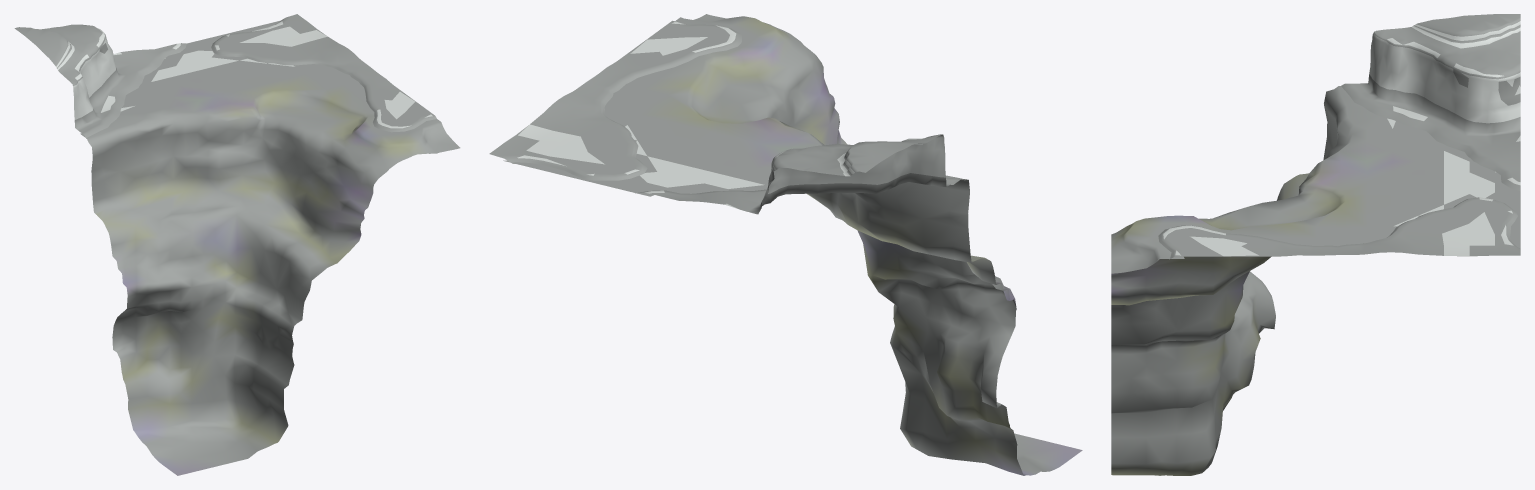
3 views of the same model, side by side, from view 1: azimuth 30°, elevation 25°; view 2: azimuth 150°, elevation 25°; view 3: azimuth 270°, elevation 25° (orthographic). The views are drawn at different scales.
Visible parts, largest first — view 1: G:\FFXIV-MapTools\exports\y6f2\bg\ex5\02_ykt_y6\fld\y6f2\bgp (×12); view 2: G:\FFXIV-MapTools\exports\y6f2\bg\ex5\02_ykt_y6\fld\y6f2\bgp (×12); view 3: G:\FFXIV-MapTools\exports\y6f2\bg\ex5\02_ykt_y6\fld\y6f2\bgp (×14).
Boxes of the visible parts, <box> form: G:\FFXIV-MapTools\exports\y6f2\bg\ex5\02_ykt_y6\fld\y6f2\bgp (×12): <box>14,14,460,475</box>; G:\FFXIV-MapTools\exports\y6f2\bg\ex5\02_ykt_y6\fld\y6f2\bgp (×12): <box>489,14,1082,475</box>; G:\FFXIV-MapTools\exports\y6f2\bg\ex5\02_ykt_y6\fld\y6f2\bgp (×14): <box>1111,14,1520,475</box>.
Bounding box in the file's own units: 128 × 142 × 128.
